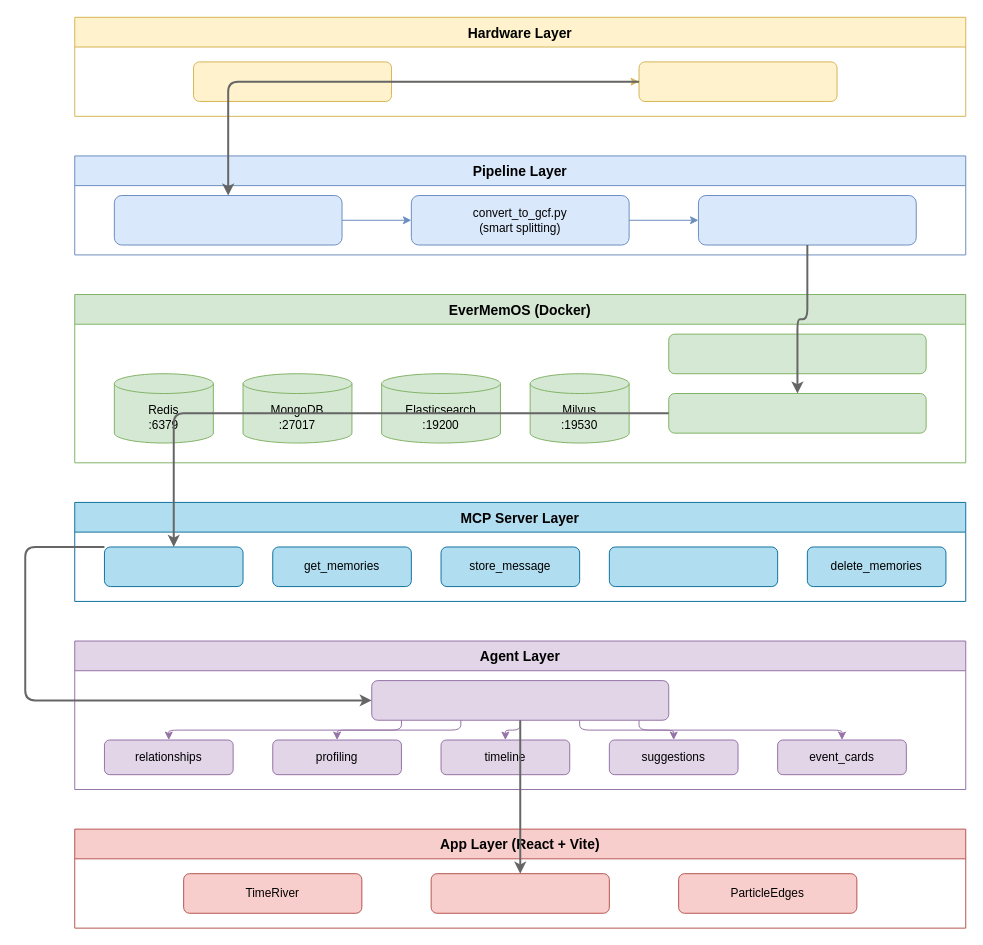
Image size: 983x945. Some labels were removed from this diagram. Here are the shapes that lost their labels. From the top down, the centre of each, then its label:
At point (292, 81): "Spiro Wearable Band".
At point (737, 81): "Audio Stream".
At point (227, 220): "generate_speaker_mapping.py (GPT-4o-mini)".
At point (806, 220): "ingest_gcf.py (async batch)".
At point (797, 353): "arq Worker (memory extraction)".
At point (797, 413): "REST API (port 1995)".
At point (173, 566): "search_memory".
At point (693, 566): "get_conversation_meta".
At point (520, 700): "opencode CLI + Claude Sonnet 4.6".
At point (519, 893): "RelationshipGraph".
